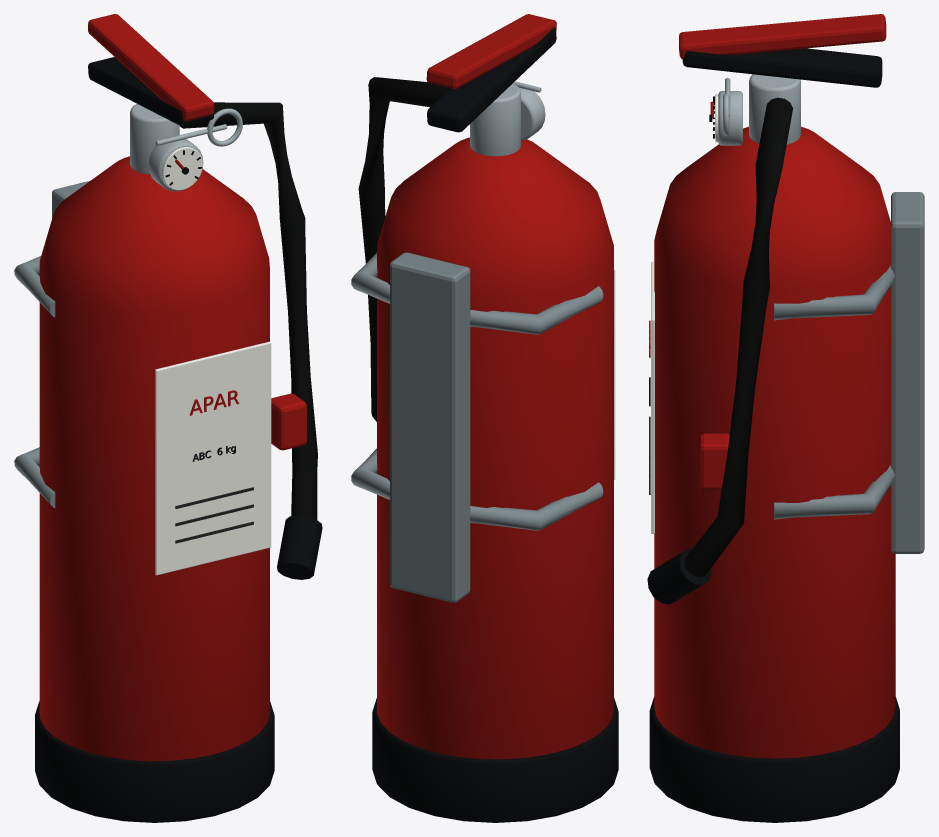
File: OAA_APAR_6kg.fbx
3 renders of one model, left to right at view 1: azimuth 30°, elevation 25°; view 2: azimuth 150°, elevation 25°; view 3: azimuth 270°, elevation 25°, orthographic. The views are drawn at different scales.
Visible parts, largest first — view 1: Body; view 2: Body; view 3: Body.
Part boxes in pixels (x1=…): Body: x1=14, y1=14, x2=322, y2=822; Body: x1=351, y1=14, x2=618, y2=822; Body: x1=647, y1=14, x2=924, y2=822.
Bounding box in the file's own units: 0.1938 × 0.543 × 0.1815.
